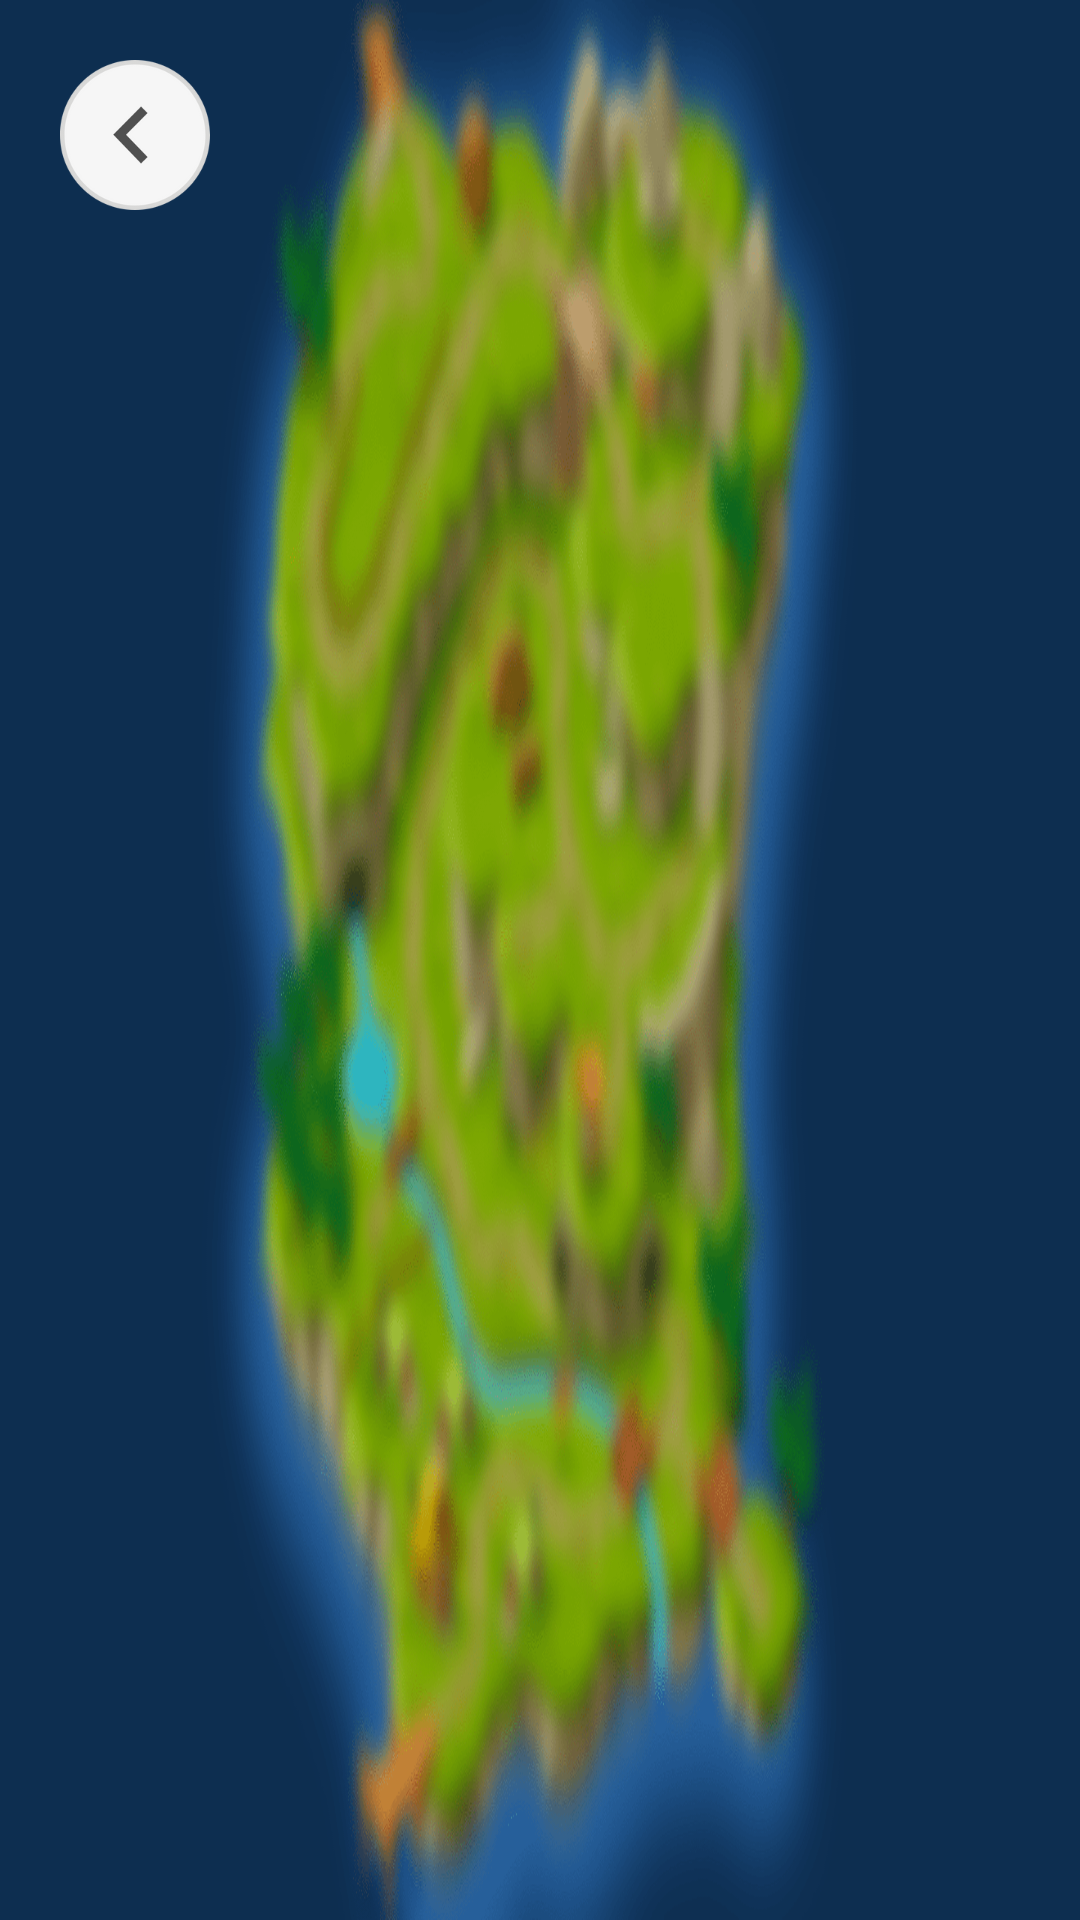

Named icons in this screenshot (1080x1920) and their bounding boxes, bbox(x1, y1, x2, y2):
back: bbox(60, 60, 210, 210)
